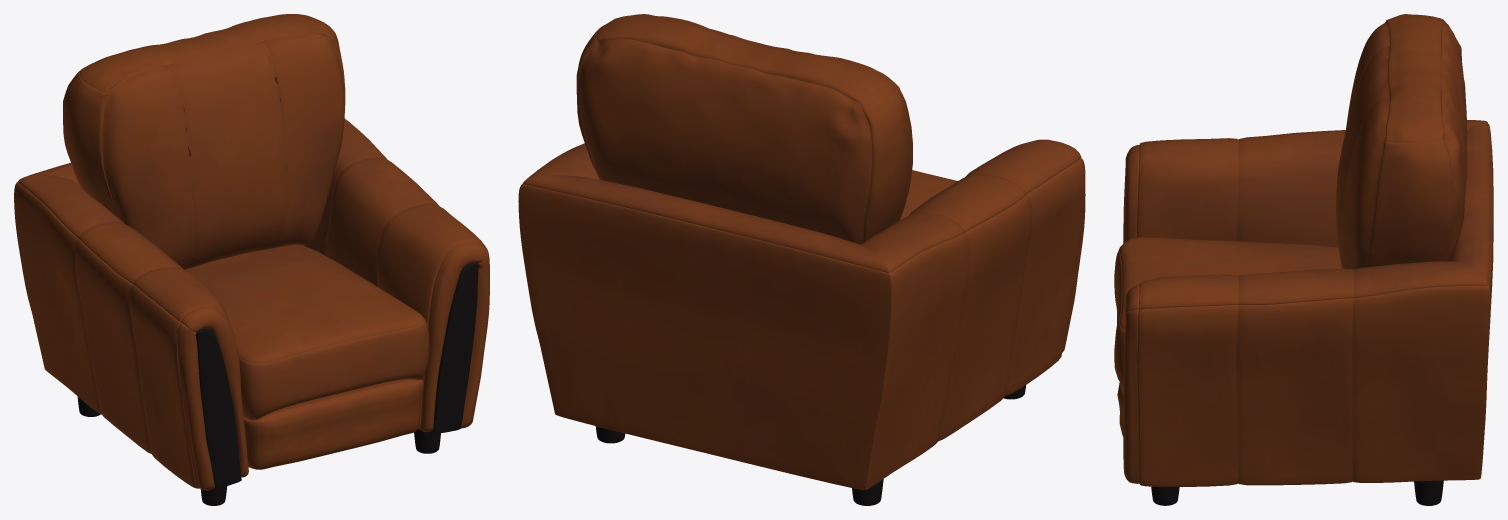
Rendered from B07RHB221M.glb.
The picture shows the model from 3 angles, left to right: view 1: azimuth 30°, elevation 25°; view 2: azimuth 150°, elevation 25°; view 3: azimuth 270°, elevation 25°; orthographic projection. The views are drawn at different scales.
Visible parts, largest first — view 1: RootNode; view 2: RootNode; view 3: RootNode.
Boxes of the visible parts, x1=… form: RootNode: x1=14, y1=14, x2=489, y2=505; RootNode: x1=518, y1=14, x2=1085, y2=505; RootNode: x1=1114, y1=14, x2=1493, y2=505.
Size of the model in its own units: 0.8364 by 0.876 by 0.7891.
Materials: 1 (1 with a texture image).
